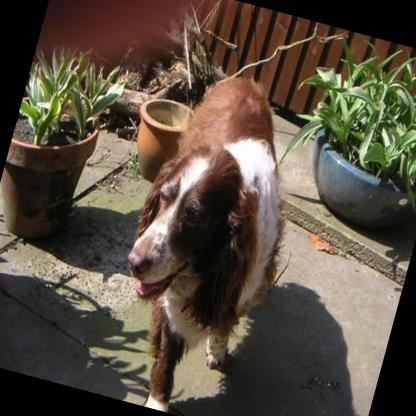English_springer: (89, 56, 325, 416)
